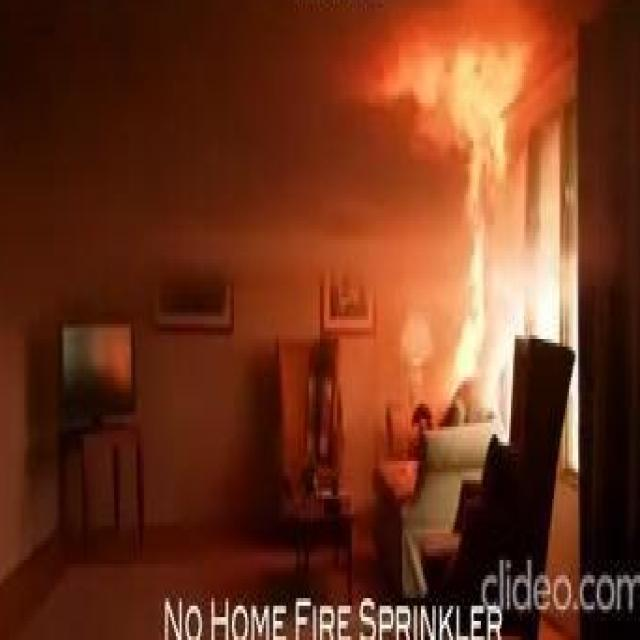smoke: (378, 34, 528, 152), (451, 152, 488, 378)
